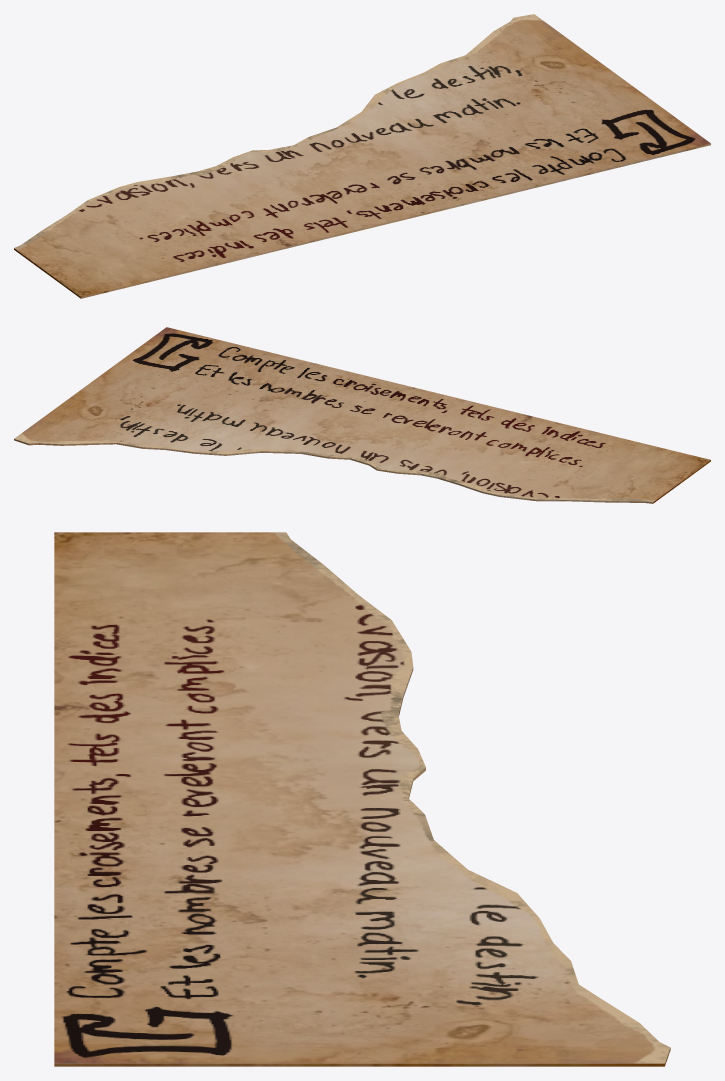
Rendered from Poeme5.fbx.
3 renders of one model, top to bottom at view 1: azimuth 30°, elevation 25°; view 2: azimuth 150°, elevation 25°; view 3: azimuth 270°, elevation 25°, orthographic. The views are drawn at different scales.
Visible parts, largest first — view 1: Poeme5; view 2: Poeme5; view 3: Poeme5.
Part boxes in pixels (left/top/right/bottom): Poeme5: left=14, top=14, right=710, bottom=298; Poeme5: left=14, top=327, right=710, bottom=503; Poeme5: left=54, top=532, right=670, bottom=1066.
Bounding box in the file's own units: 15.71 × 0.0429 × 7.7.
